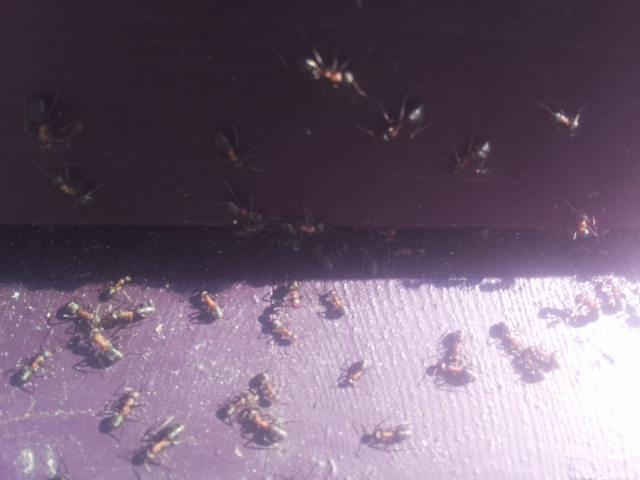ant: (300, 50, 373, 100), (133, 416, 195, 469), (206, 118, 260, 178), (100, 380, 149, 442), (377, 94, 434, 147), (42, 170, 101, 211), (353, 418, 413, 457), (13, 342, 61, 388), (447, 135, 498, 178), (241, 406, 293, 448), (538, 99, 588, 141), (218, 191, 266, 233), (107, 294, 160, 329), (88, 322, 125, 371), (26, 96, 58, 147), (57, 297, 102, 332), (484, 316, 520, 355), (566, 204, 600, 244), (96, 270, 137, 303), (315, 287, 348, 323), (198, 288, 227, 323), (269, 313, 296, 348), (344, 356, 375, 386), (281, 278, 305, 313), (256, 368, 277, 406)
